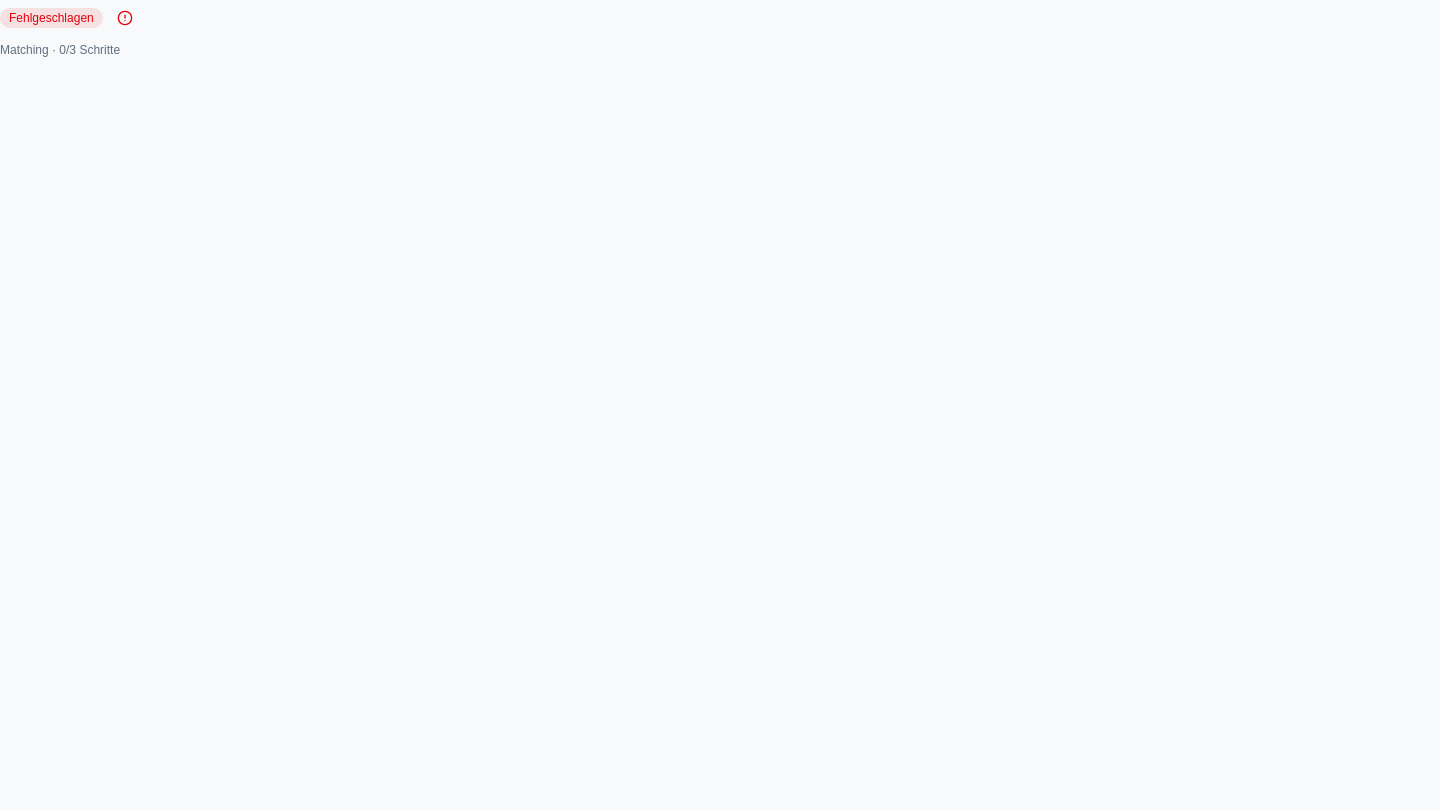
Scenario: shows the failed step and opens its technical error on demand
Expected: the text "Letzter Fehler: Matching unavailable" is not shown
Click the button named "Fehlerdetails anzeigen" at [125, 18], box [107, 0, 143, 36]
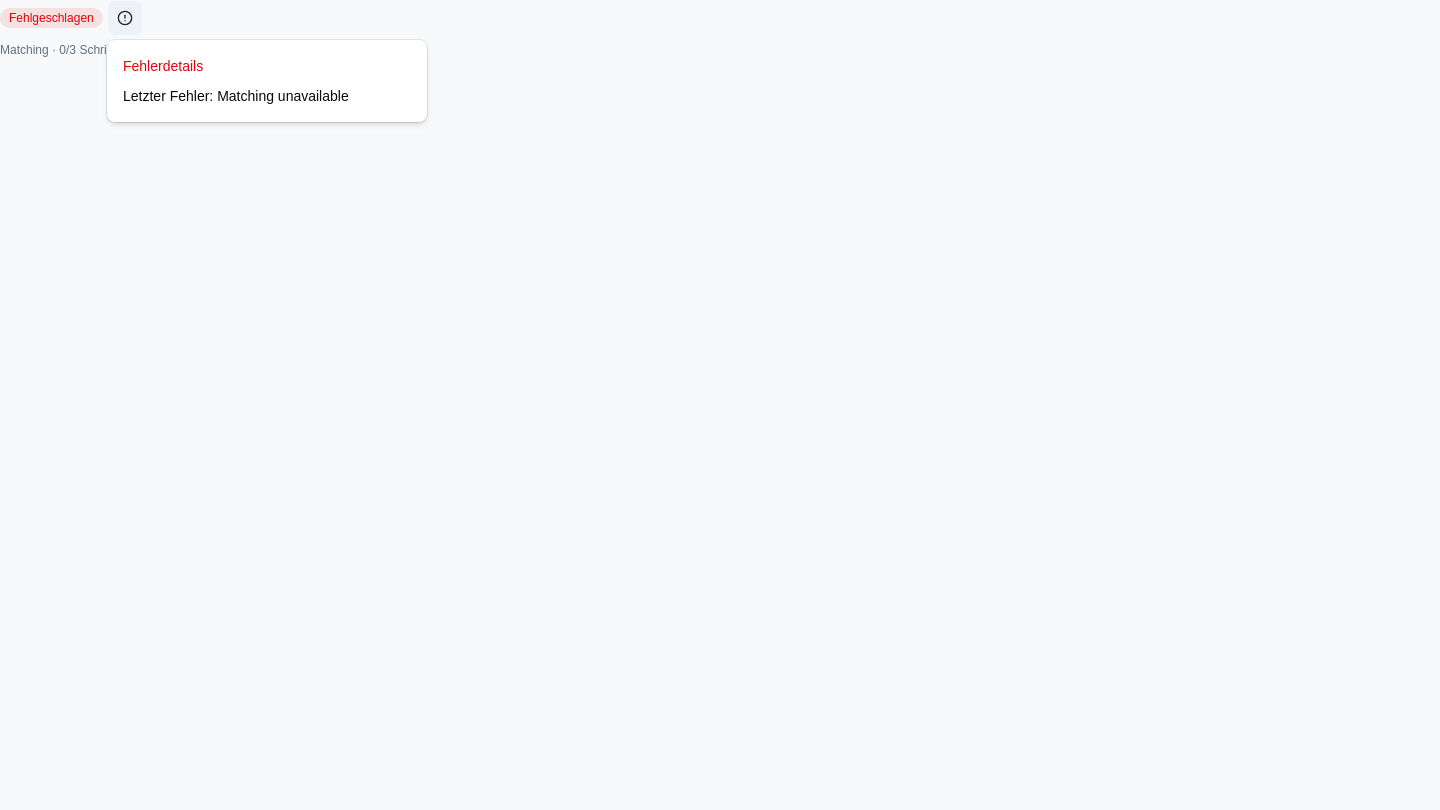
Expected: the text "Letzter Fehler: Matching unavailable" is shown, [123, 88, 349, 104]
